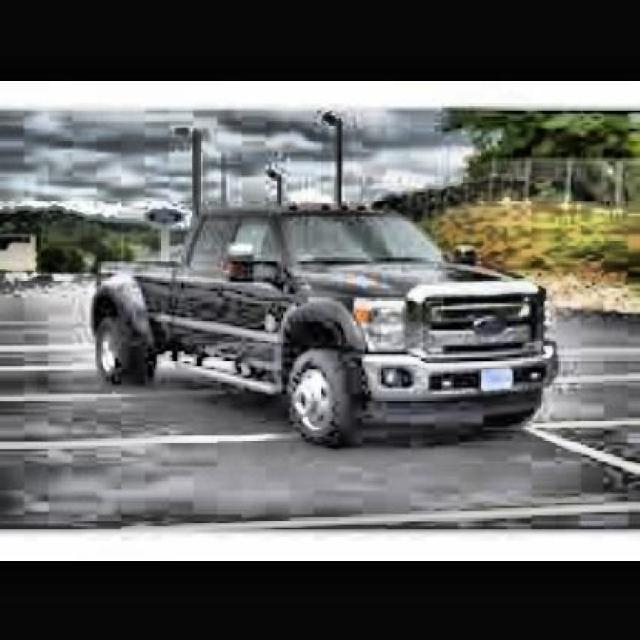black: (96, 207, 565, 441)
